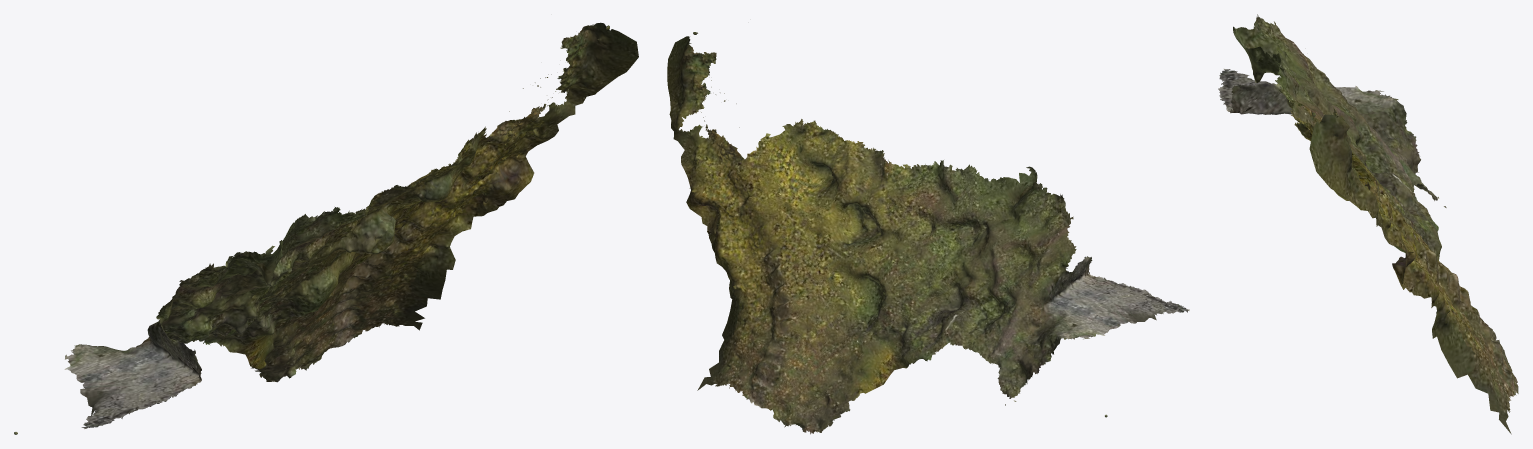
3 views of the same model, side by side, from view 1: azimuth 30°, elevation 25°; view 2: azimuth 150°, elevation 25°; view 3: azimuth 270°, elevation 25° (orthographic). The views are drawn at different scales.
Bounding box in the file's own units: 18.66 × 11.92 × 7.62.
1 material, 1 textured.
